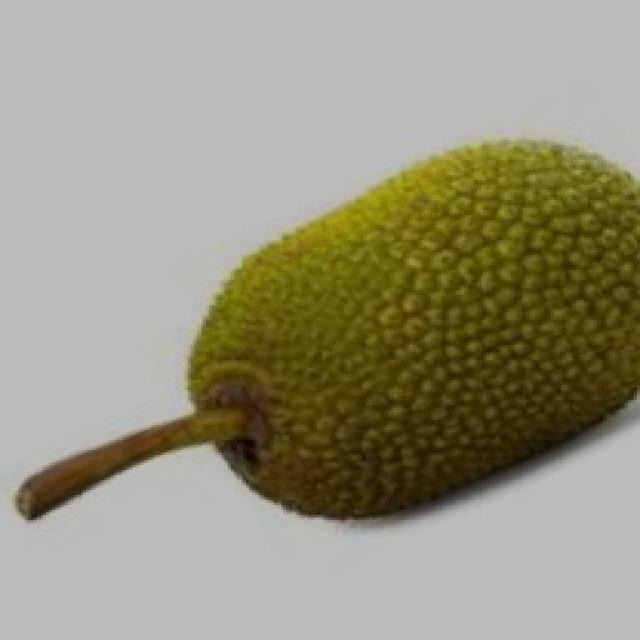Fruit: (209, 128, 640, 538)
